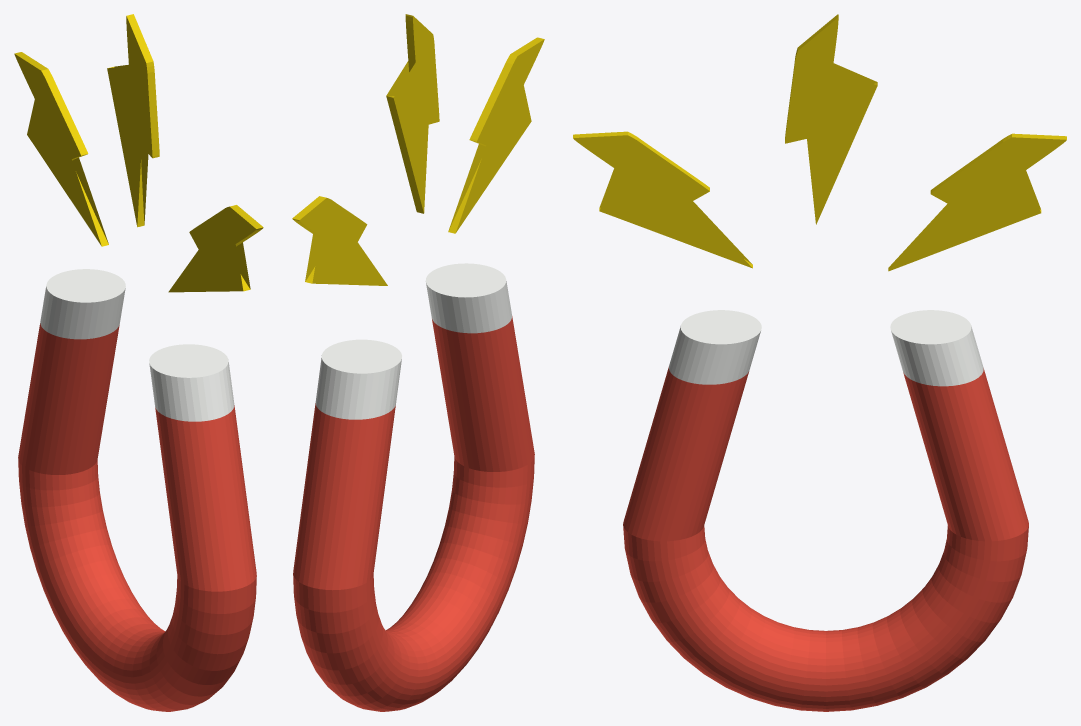
File: OBJ_Magnet.fbx
3 views of the same model, side by side, from view 1: azimuth 30°, elevation 25°; view 2: azimuth 150°, elevation 25°; view 3: azimuth 270°, elevation 25° (orthographic). The views are drawn at different scales.
Visible parts, largest first — view 1: Torus; view 2: Torus; view 3: Torus.
Part boxes in pixels (x1,y1,x2,y2): Torus: (14,14,263,711); Torus: (292,14,544,711); Torus: (573,14,1066,711).
Bounding box in the file's own units: 35.07 × 331 × 214.
